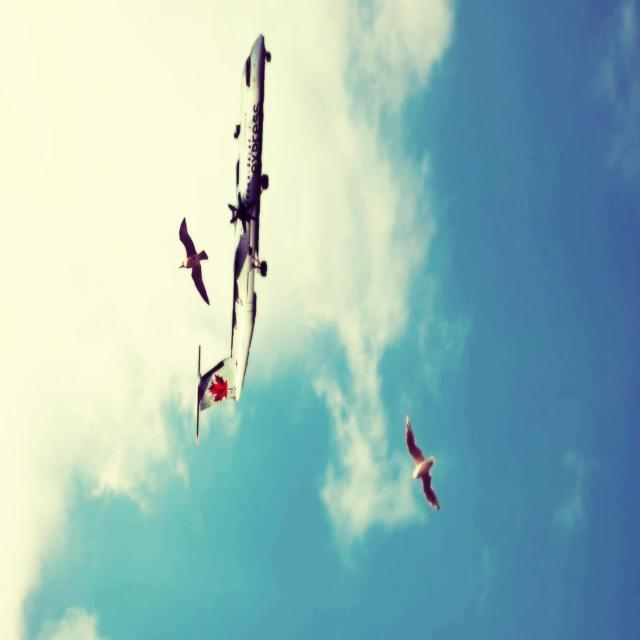airplane: (195, 32, 271, 445)
